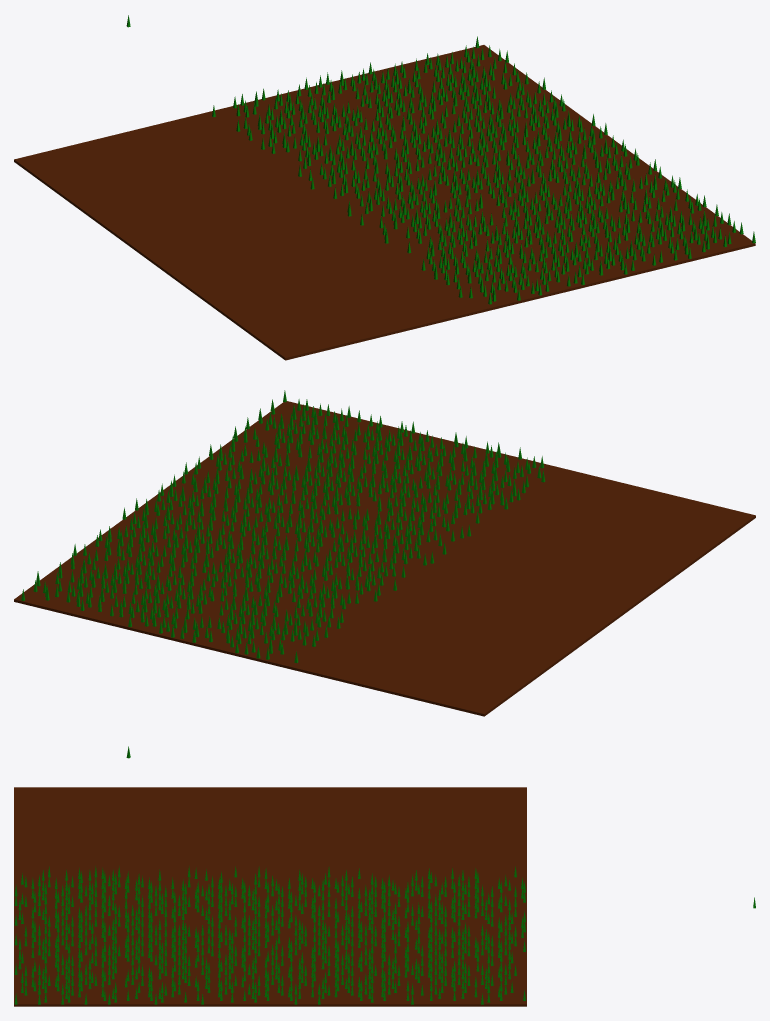
Rendered from Ground.fbx.
3 views of the same model, one above another, from view 1: azimuth 30°, elevation 25°; view 2: azimuth 150°, elevation 25°; view 3: azimuth 270°, elevation 25° (orthographic). The views are drawn at different scales.
Visible parts, largest first — view 1: Cube; view 2: Cube; view 3: Cube.
Boxes of the visible parts, left/top/right/bottom form: Cube: left=14, top=45, right=755, bottom=360; Cube: left=14, top=401, right=755, bottom=716; Cube: left=14, top=787, right=526, bottom=1006.
Bounding box in the file's own units: 40069 × 2006 × 57859.
